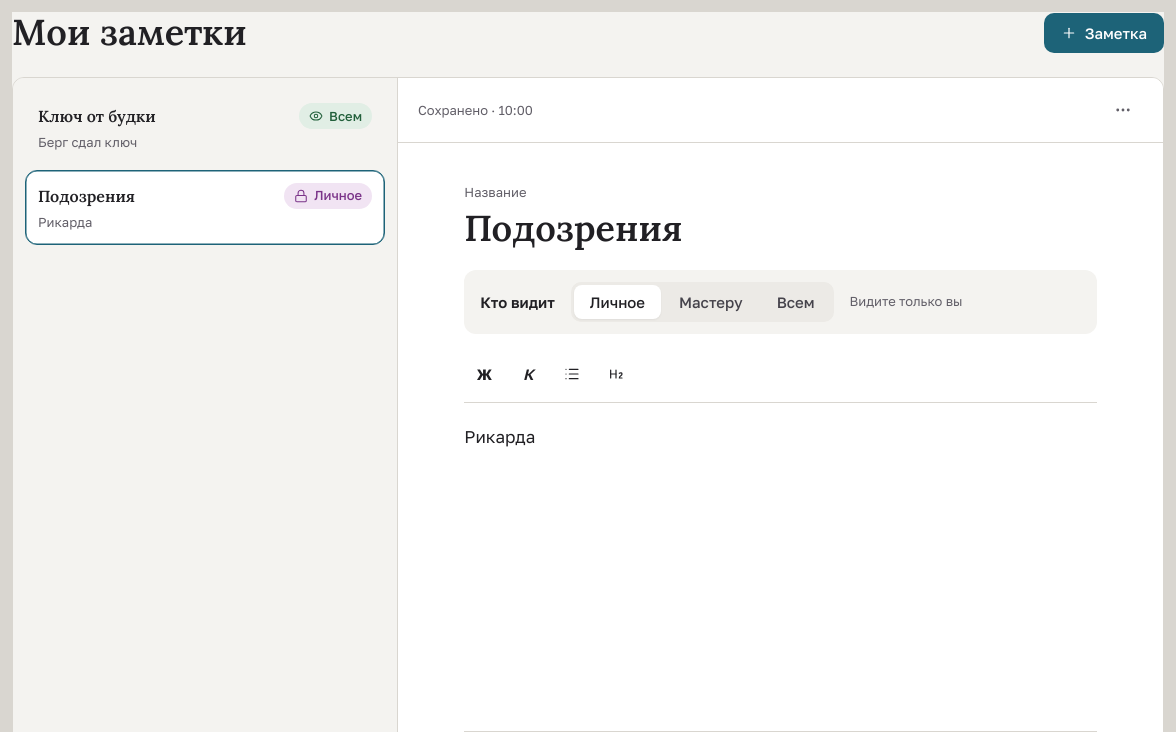
Test: NotesPage › autosaves the text and formats the selection with the buttons
Replace the text in the text box named "Текст" with "Рикарда спокойна" at (780, 567), box left=464, top=423, right=1097, bottom=711
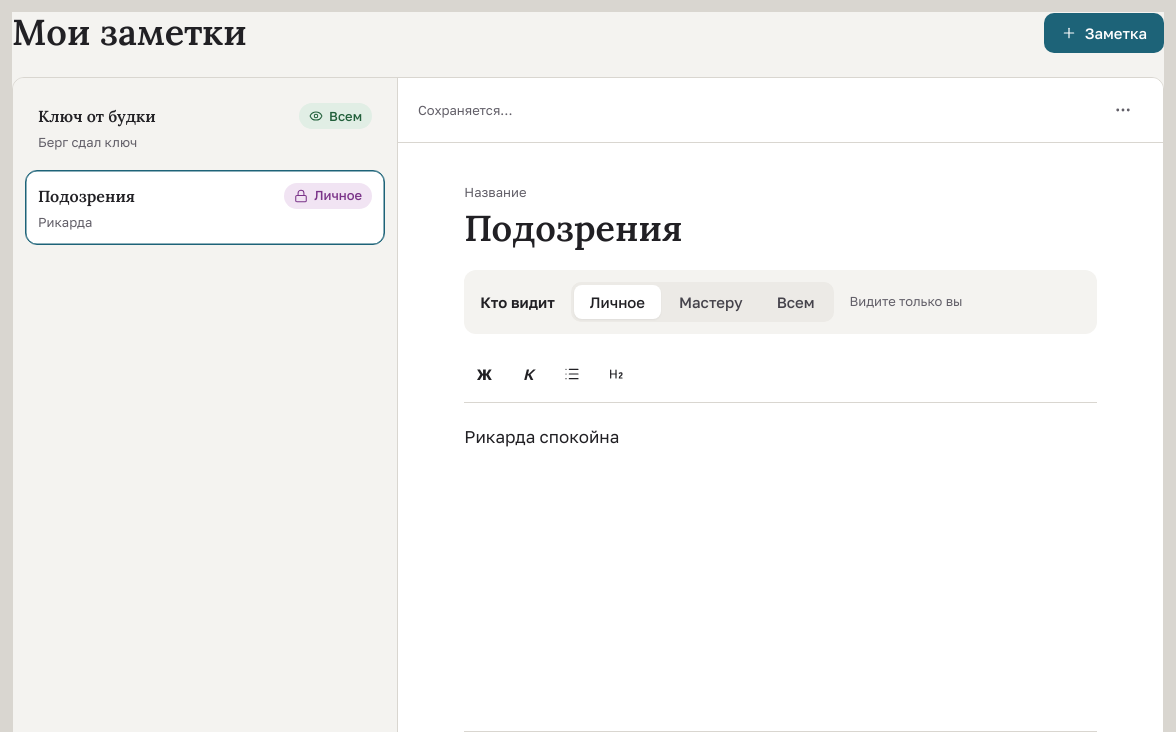
Click the button named "Жирный (Ctrl+B)" at (484, 374), box left=464, top=354, right=504, bottom=394
Wait 800 ms
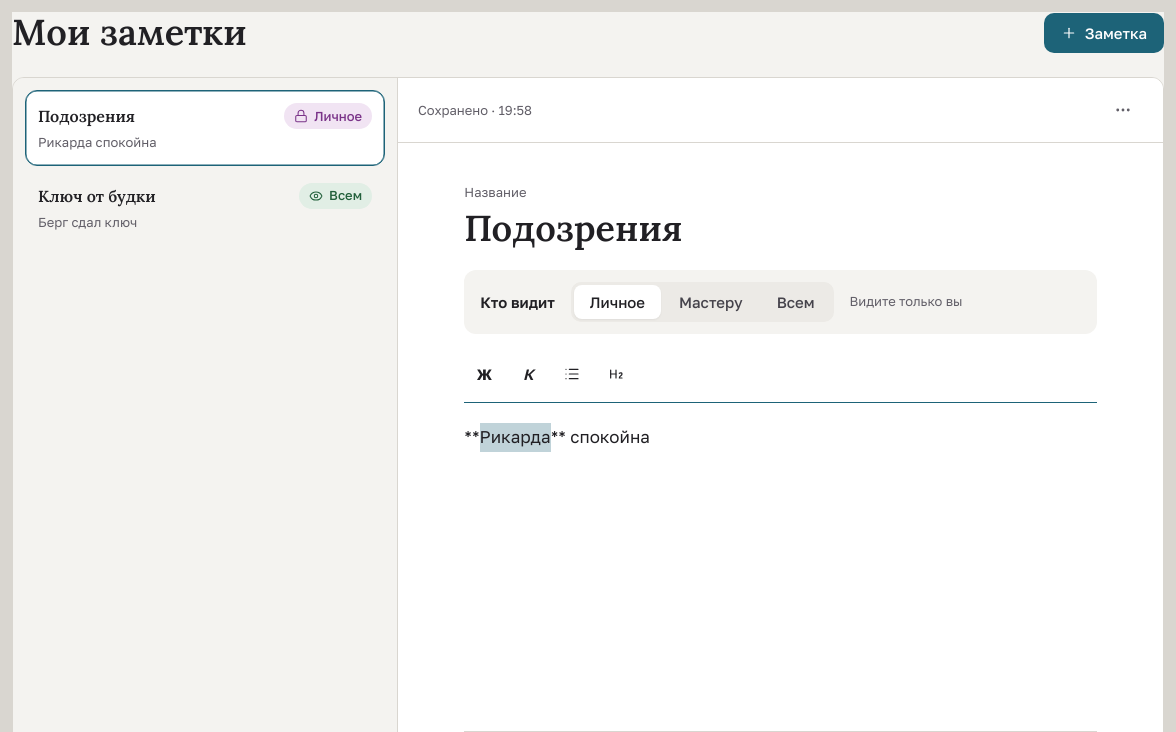
Expected: the text box named "Текст" holds "**Рикарда** спокойна", left=464, top=423, right=1097, bottom=711
Expected: the message reads "Сохранено · 19:58", left=418, top=102, right=532, bottom=118
